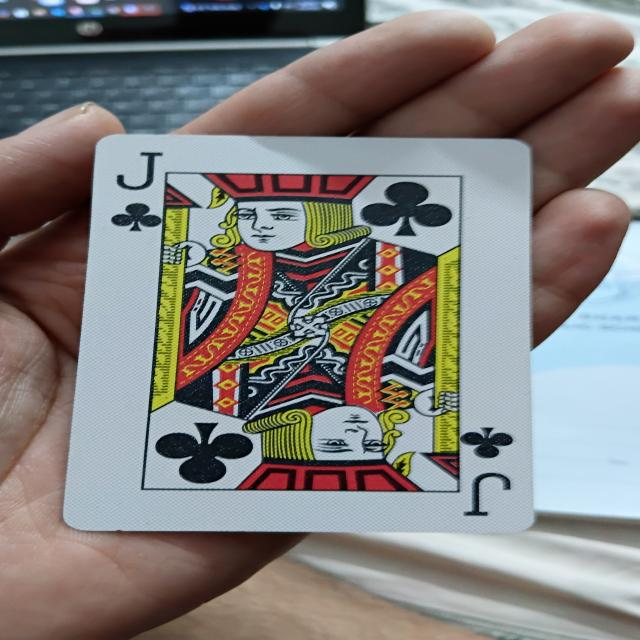JC: (87, 137, 536, 530)
